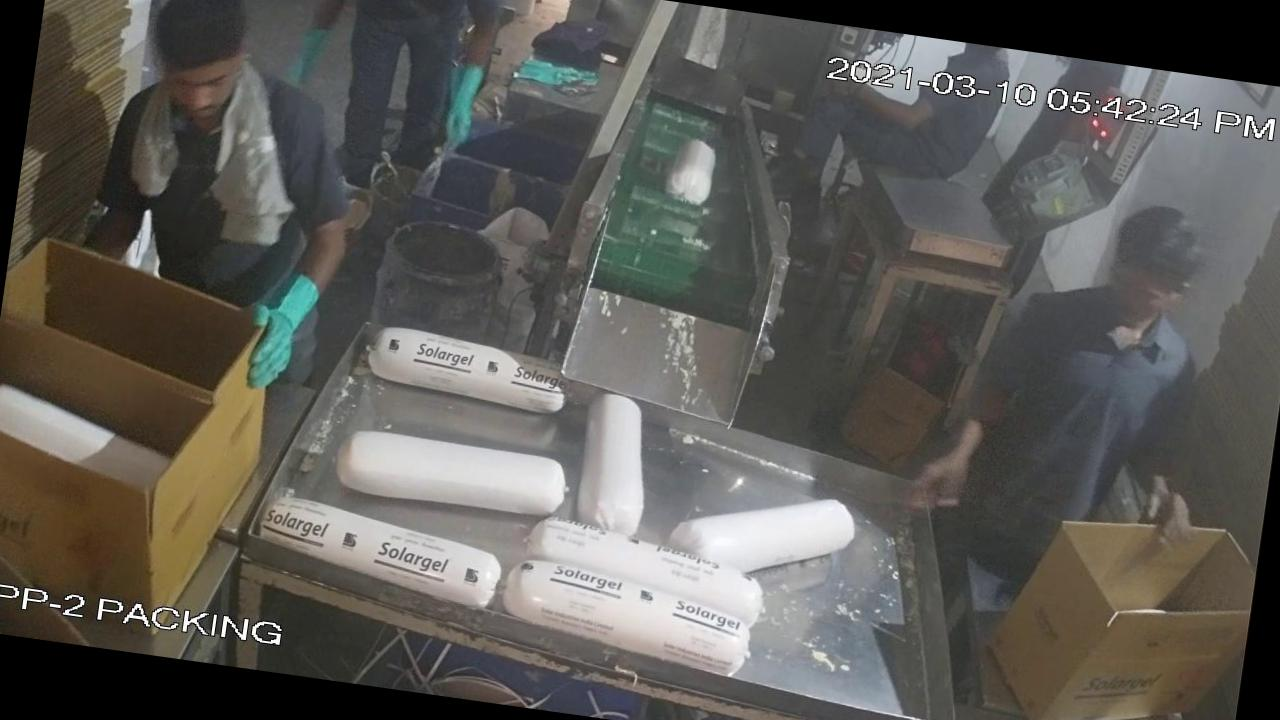Gloves: (226, 248, 324, 410)
No-gloves: (896, 352, 1034, 545), (1110, 439, 1220, 586), (818, 67, 966, 153)
